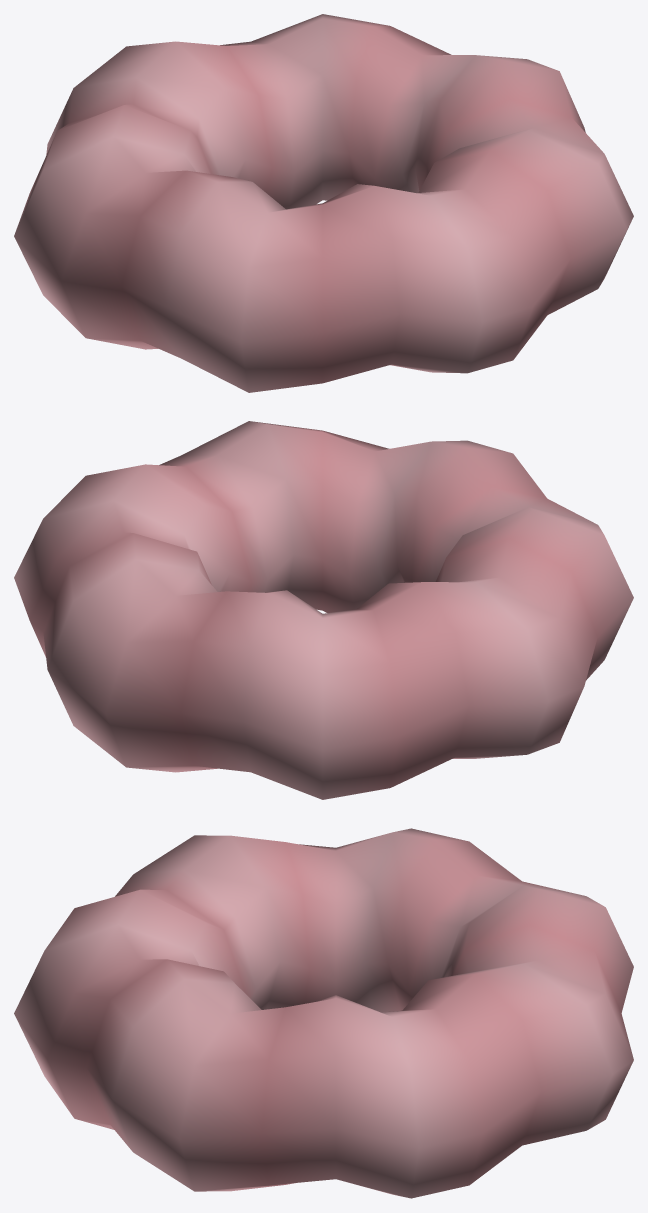
The model's file is hair_tie.glb.
The picture shows the model from 3 angles, top to bottom: view 1: azimuth 30°, elevation 25°; view 2: azimuth 150°, elevation 25°; view 3: azimuth 270°, elevation 25°; orthographic projection.
Visible parts, largest first — view 1: hair_tie; view 2: hair_tie; view 3: hair_tie.
Part boxes in pixels (bbox=[...]): hair_tie: bbox=[14, 14, 633, 392]; hair_tie: bbox=[14, 421, 633, 799]; hair_tie: bbox=[14, 828, 633, 1198].
Size of the model in its own units: 0.0634 by 0.023 by 0.0633.
